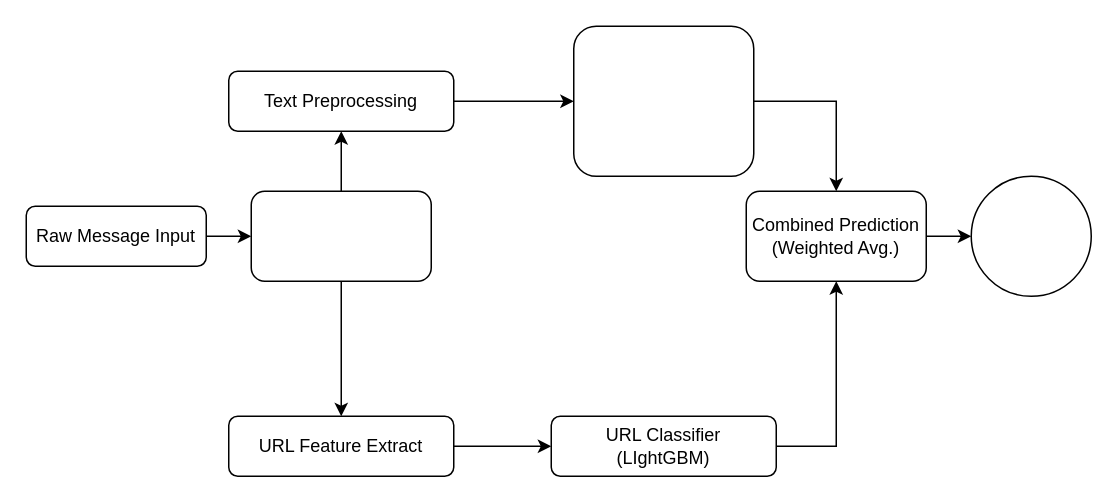
This 1118x503 diagram has some shape labels left out. Each missing label, with the centre of its shape:
Final Spam/Ham Label: (x=1030, y=235)
Text Classifier (SMS: Random Forest, Email: XGBoost, YouTube: Gradient Boost): (x=663, y=100)
URL Extractor / Text Split: (x=340, y=235)
